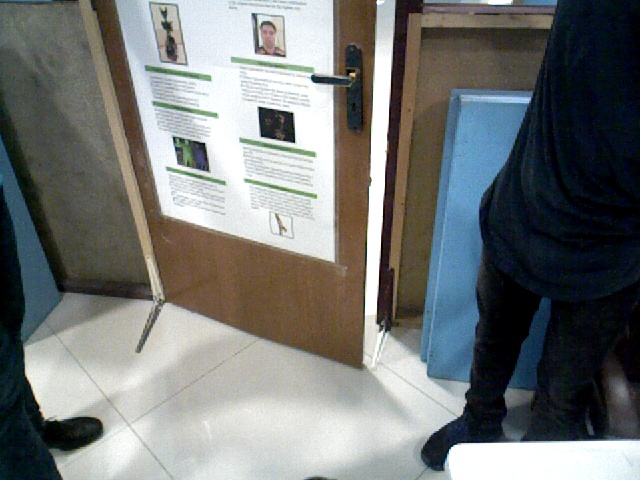door_handle: (312, 43, 373, 139)
